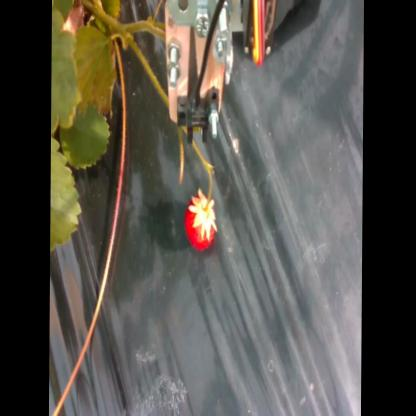ripe: (183, 197, 221, 249)
